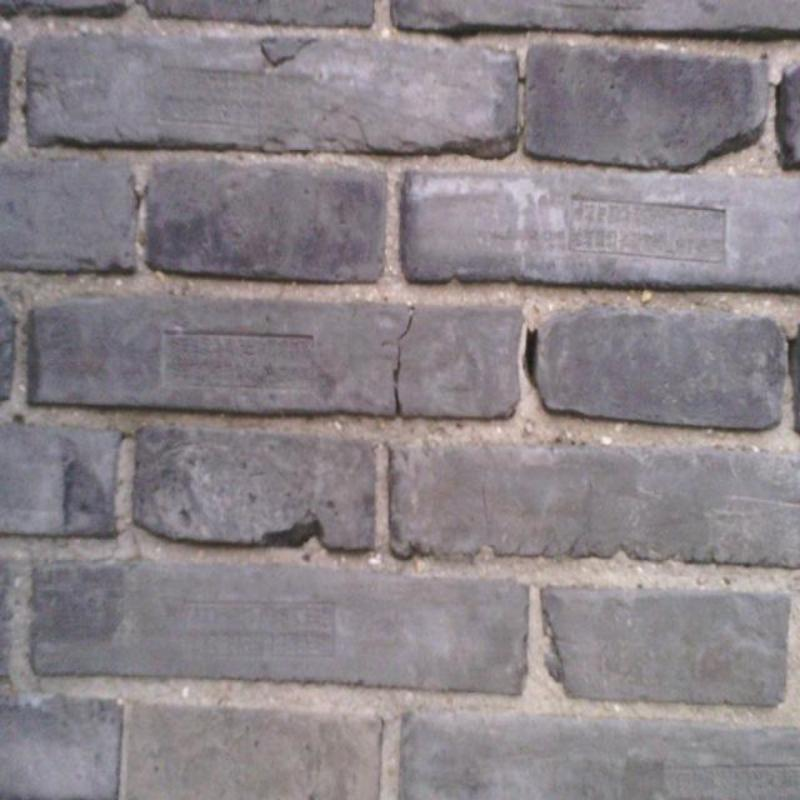crack: (380, 307, 415, 416), (260, 40, 318, 66), (525, 330, 538, 388), (785, 338, 798, 376), (766, 81, 782, 102), (515, 78, 526, 84)
